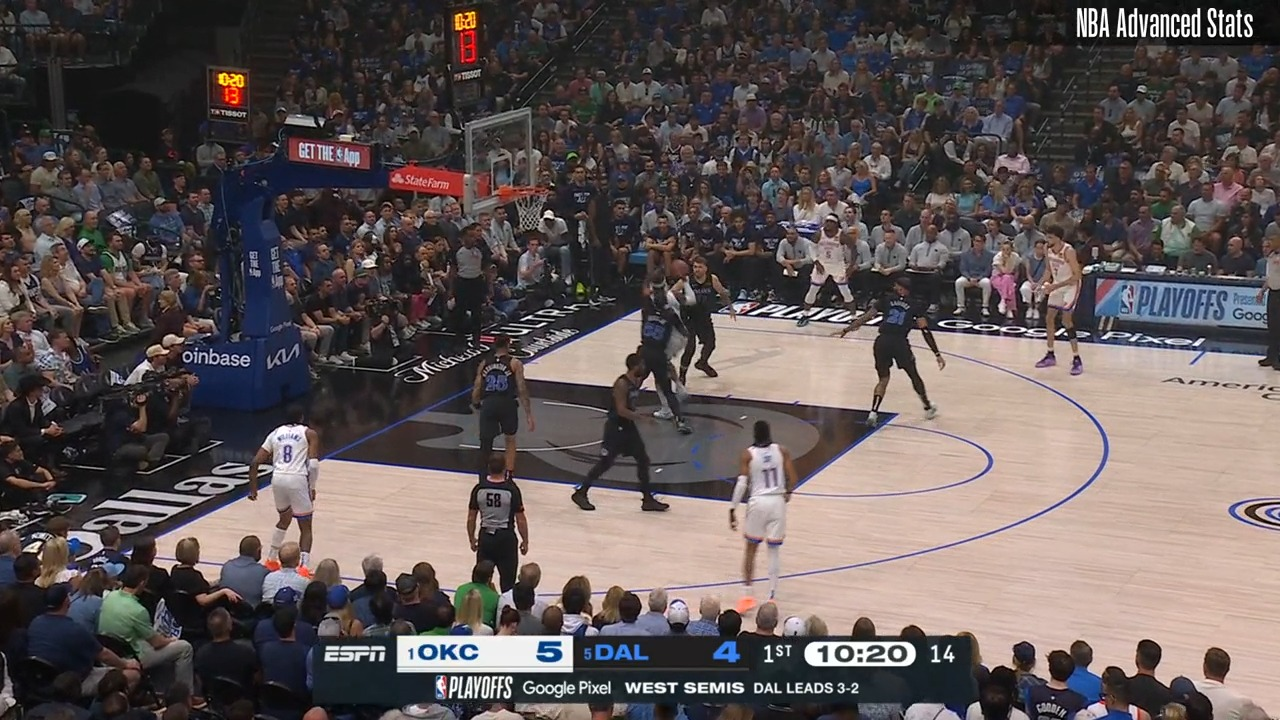basketball: (669, 257, 689, 280)
